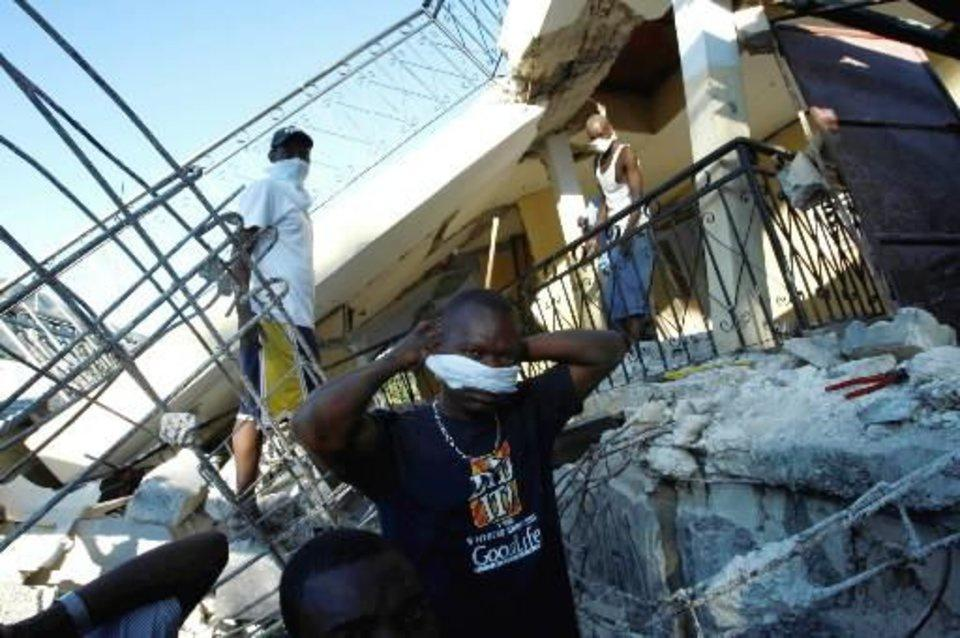victim: (284, 292, 632, 638), (226, 117, 346, 539), (578, 104, 677, 370)
